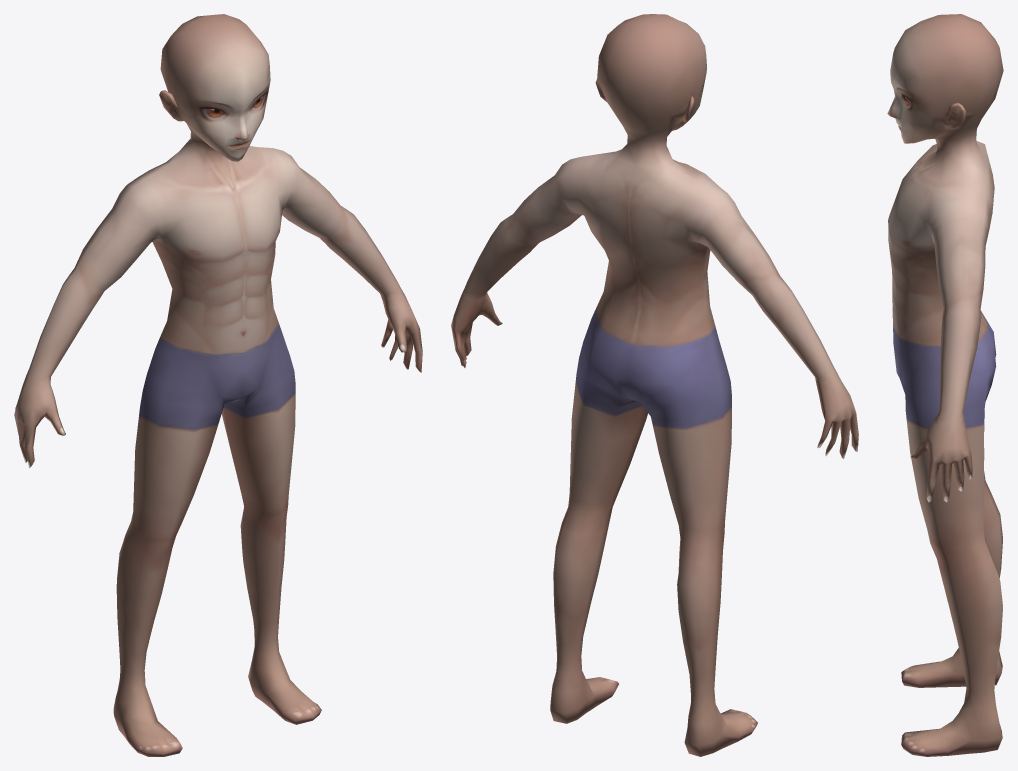
File: nan.FBX
3 renders of one model, left to right at view 1: azimuth 30°, elevation 25°; view 2: azimuth 150°, elevation 25°; view 3: azimuth 270°, elevation 25°, orthographic.
Visible parts, largest first — view 1: TL005; view 2: TL005; view 3: TL005.
Part boxes in pixels (x1=…): TL005: x1=14, y1=14, x2=422, y2=756; TL005: x1=451, y1=14, x2=858, y2=756; TL005: x1=887, y1=14, x2=1003, y2=756.
Size of the model in its own units: 86.07 by 146 by 22.04.
